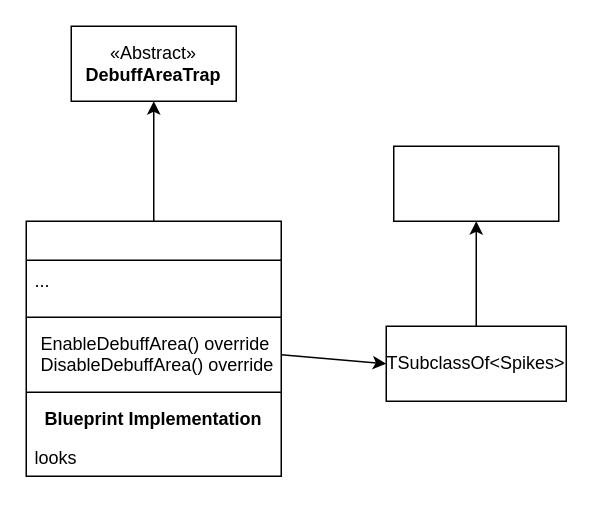
This 593x507 diagram has some shape labels left out. The shapes that lost their labels are listed below. From the top down, each one's box as (x1, y1, x2, y2) in pixels, then its label:
(392, 145, 559, 221): DebuffArea
(25, 220, 281, 476): SpikeTrap
